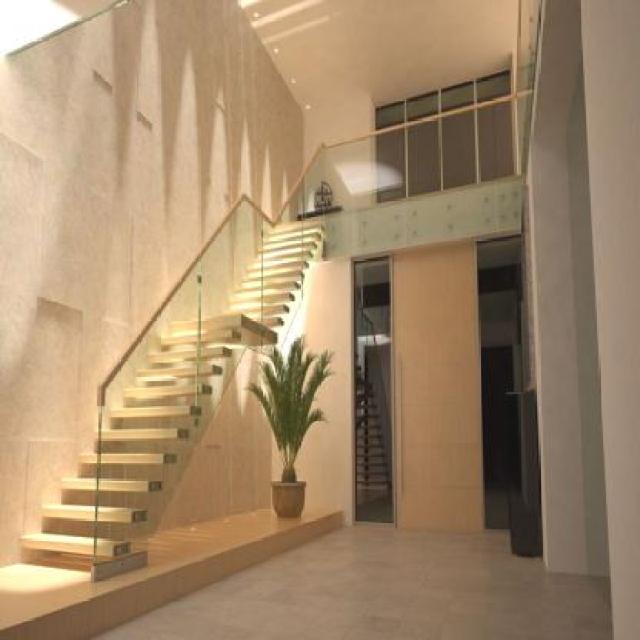stair: (25, 185, 320, 584)
